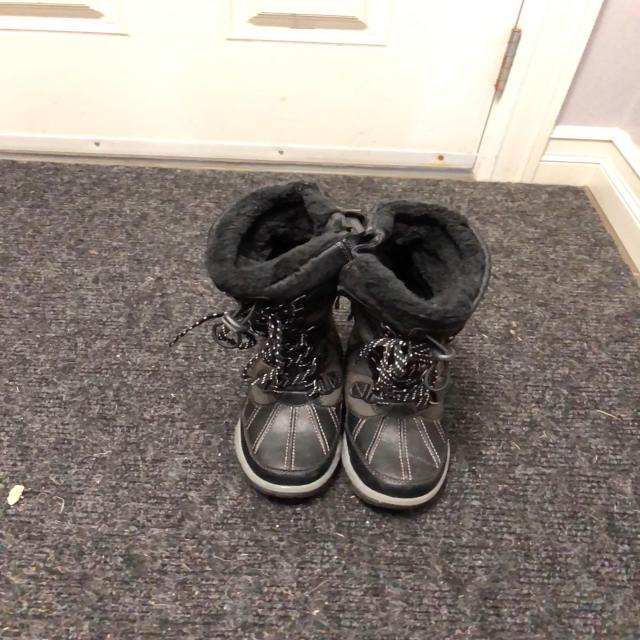shoe: (235, 306, 337, 499), (344, 323, 453, 500)
